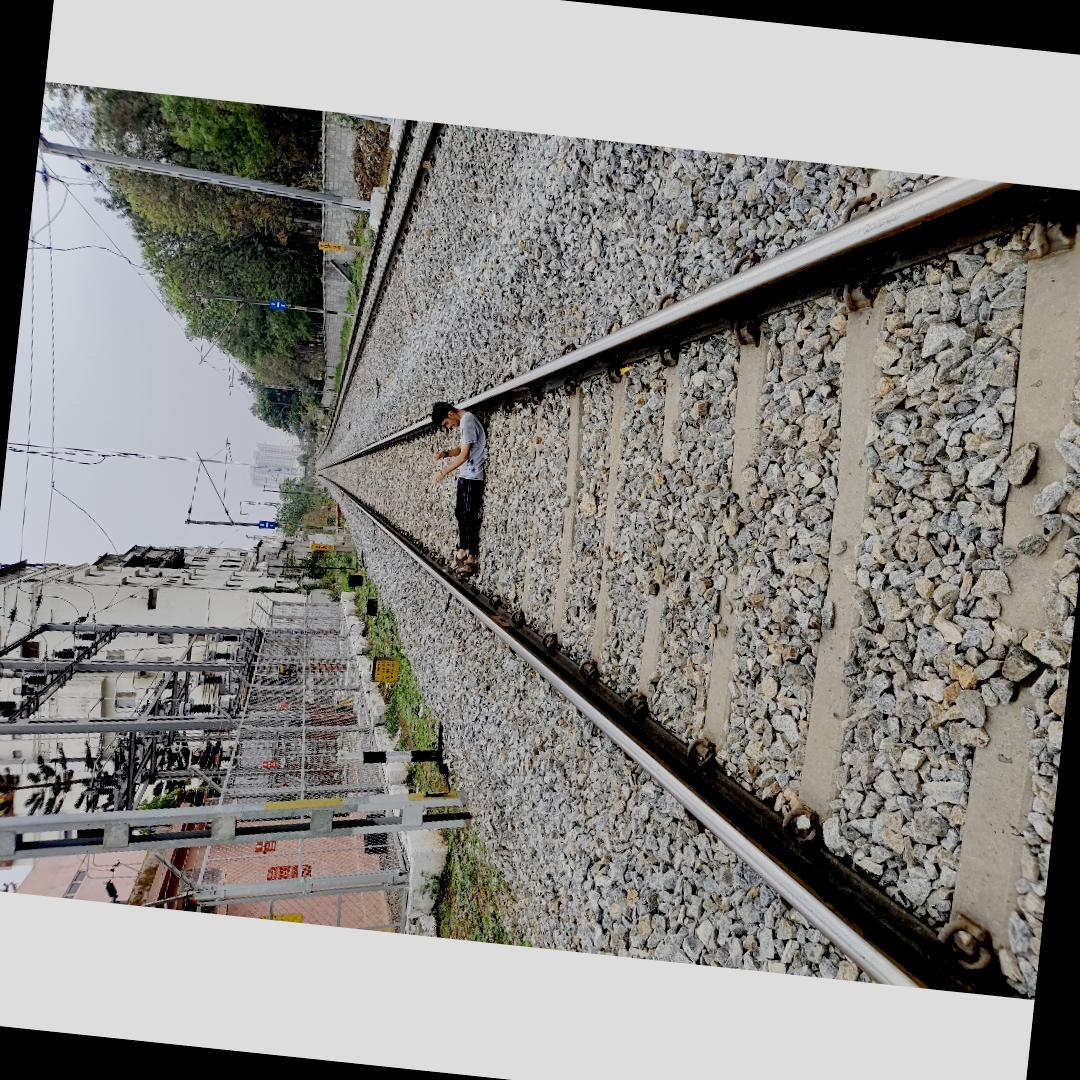sleeping: (413, 397, 495, 580)
track: (305, 177, 1080, 998)
